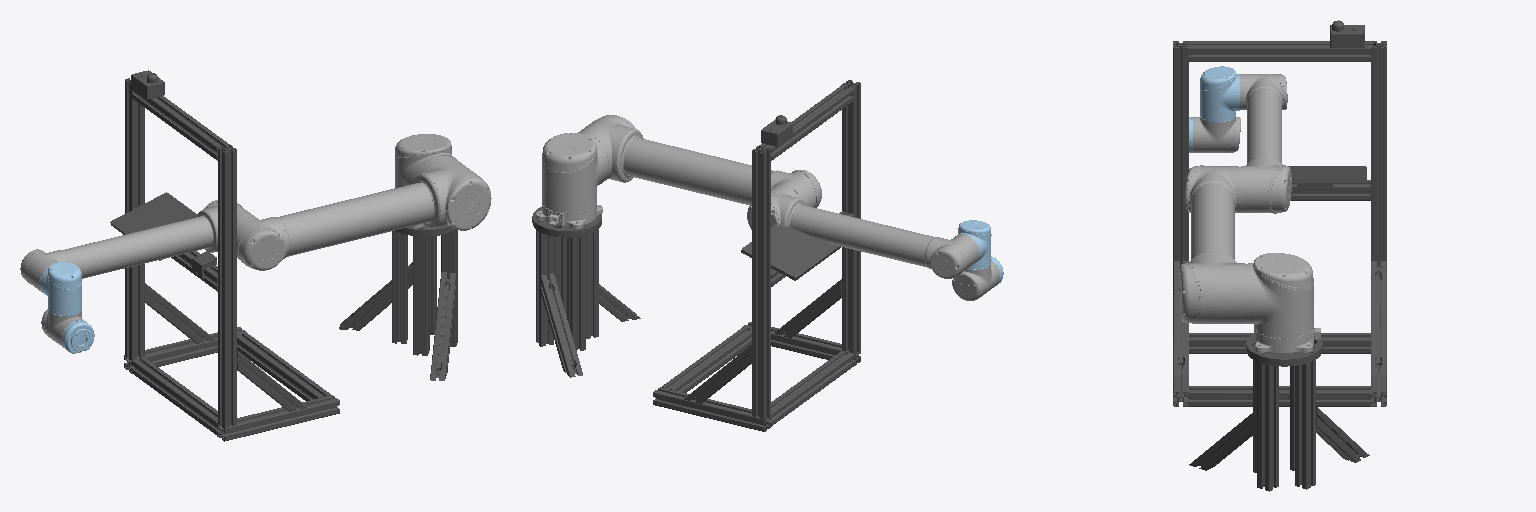
The robot description file, URDF, robot "thing":
<?xml version="1.0" ?>
<!-- =================================================================================== -->
<!-- |    This document was autogenerated by xacro from ridgeback.urdf.xacro           | -->
<!-- |    EDITING THIS FILE BY HAND IS NOT RECOMMENDED                                 | -->
<!-- =================================================================================== -->
<robot name="thing" xmlns:xacro="http://ros.org/wiki/xacro">
  <material name="dark_grey">
    <color rgba="0.2 0.2 0.2 1.0"/>
  </material>
  <material name="light_grey">
    <color rgba="0.4 0.4 0.4 1.0"/>
  </material>
  <material name="red">
    <color rgba="0.8 0.0 0.0 1.0"/>
  </material>
  <material name="white">
    <color rgba="0.9 0.9 0.9 1.0"/>
  </material>
  <material name="yellow">
    <color rgba="0.8 0.8 0.0 1.0"/>
  </material>
  <material name="black">
    <color rgba="0.15 0.15 0.15 1.0"/>
  </material>
  <link name="front_rocker_link">
    <visual>
      <origin rpy="1.57079632679 0 1.57079632679" xyz="0 0 0"/>
      <geometry>
        <mesh filename="assets/ridgeback_description/meshes/rocker.stl"/>
      </geometry>
      <material name="black"/>
    </visual>
    <inertial>
      <origin rpy="1.57079632679 0 1.57079632679" xyz="0 0 0"/>
      <mass value="10.267"/>
      <inertia ixx="0.0288" ixy="2.20484e-6" ixz="-1.3145e-5" iyy="0.4324" iyz="1.8944e-3" izz="0.4130"/>
    </inertial>
  </link>
  <joint name="front_rocker" type="revolute">
    <parent link="axle_link"/>
    <child link="front_rocker_link"/>
    <origin rpy="0 0 0" xyz="0.319 0 0"/>
    <axis xyz="1 0 0"/>
    <limit effort="0" lower="-0.08726" upper="0.08726" velocity="0"/>
  </joint>
  <link name="front_left_wheel_link">
    <visual>
      <origin rpy="1.57079632679 0 0" xyz="0 0 0"/>
      <geometry>
        <mesh filename="assets/ridgeback_description/meshes/wheel.stl"/>
      </geometry>
      <material name="black"/>
    </visual>
    <collision>
      <origin rpy="1.57079632679 0 0" xyz="0 0 0"/>
      <geometry>
        <cylinder length="0.079" radius="0.0759"/>
      </geometry>
    </collision>
    <inertial>
      <origin rpy="0 0 0" xyz="0 0 0"/>
      <mass value="2.3"/>
      <inertia ixx="3.3212e-3" ixy="0" ixz="0" iyy="6.6424e-3" iyz="0" izz="3.3212e-3"/>
    </inertial>
  </link>
  <joint name="front_left_wheel" type="continuous">
    <parent link="front_rocker_link"/>
    <child link="front_left_wheel_link"/>
    <origin rpy="0 0 0" xyz="0 0.2755 0"/>
    <axis xyz="0 1 0"/>
  </joint>
  <transmission name="front_wheel_trans">
    <type>transmission_interface/SimpleTransmission</type>
    <joint name="front_left_wheel">
      <hardwareInterface>hardware_interface/VelocityJointInterface</hardwareInterface>
    </joint>
    <actuator name="front_left_actuator">
      <mechanicalReduction>1</mechanicalReduction>
    </actuator>
  </transmission>
  <link name="front_right_wheel_link">
    <visual>
      <origin rpy="1.57079632679 0 0" xyz="0 0 0"/>
      <geometry>
        <mesh filename="assets/ridgeback_description/meshes/wheel.stl"/>
      </geometry>
      <material name="black"/>
    </visual>
    <collision>
      <origin rpy="1.57079632679 0 0" xyz="0 0 0"/>
      <geometry>
        <cylinder length="0.079" radius="0.0759"/>
      </geometry>
    </collision>
    <inertial>
      <origin rpy="0 0 0" xyz="0 0 0"/>
      <mass value="2.3"/>
      <inertia ixx="3.3212e-3" ixy="0" ixz="0" iyy="6.6424e-3" iyz="0" izz="3.3212e-3"/>
    </inertial>
  </link>
  <joint name="front_right_wheel" type="continuous">
    <parent link="front_rocker_link"/>
    <child link="front_right_wheel_link"/>
    <origin rpy="0 0 0" xyz="0 -0.2755 0"/>
    <axis xyz="0 1 0"/>
  </joint>
  <transmission name="front_wheel_trans">
    <type>transmission_interface/SimpleTransmission</type>
    <joint name="front_right_wheel">
      <hardwareInterface>hardware_interface/VelocityJointInterface</hardwareInterface>
    </joint>
    <actuator name="front_right_actuator">
      <mechanicalReduction>1</mechanicalReduction>
    </actuator>
  </transmission>
  <link name="rear_rocker_link">
    <visual>
      <origin rpy="1.57079632679 0 1.57079632679" xyz="0 0 0"/>
      <geometry>
        <mesh filename="assets/ridgeback_description/meshes/rocker.stl"/>
      </geometry>
      <material name="black"/>
    </visual>
    <inertial>
      <origin rpy="1.57079632679 0 1.57079632679" xyz="0 0 0"/>
      <mass value="10.267"/>
      <inertia ixx="0.0288" ixy="2.20484e-6" ixz="-1.3145e-5" iyy="0.4324" iyz="1.8944e-3" izz="0.4130"/>
    </inertial>
  </link>
  <joint name="rear_rocker" type="fixed">
    <parent link="axle_link"/>
    <child link="rear_rocker_link"/>
    <origin rpy="0 0 0" xyz="-0.319 0 0"/>
    <axis xyz="1 0 0"/>
    <limit effort="0" velocity="0"/>
  </joint>
  <link name="rear_left_wheel_link">
    <visual>
      <origin rpy="1.57079632679 0 0" xyz="0 0 0"/>
      <geometry>
        <mesh filename="assets/ridgeback_description/meshes/wheel.stl"/>
      </geometry>
      <material name="black"/>
    </visual>
    <collision>
      <origin rpy="1.57079632679 0 0" xyz="0 0 0"/>
      <geometry>
        <cylinder length="0.079" radius="0.0759"/>
      </geometry>
    </collision>
    <inertial>
      <origin rpy="0 0 0" xyz="0 0 0"/>
      <mass value="2.3"/>
      <inertia ixx="3.3212e-3" ixy="0" ixz="0" iyy="6.6424e-3" iyz="0" izz="3.3212e-3"/>
    </inertial>
  </link>
  <joint name="rear_left_wheel" type="continuous">
    <parent link="rear_rocker_link"/>
    <child link="rear_left_wheel_link"/>
    <origin rpy="0 0 0" xyz="0 0.2755 0"/>
    <axis xyz="0 1 0"/>
  </joint>
  <transmission name="rear_wheel_trans">
    <type>transmission_interface/SimpleTransmission</type>
    <joint name="rear_left_wheel">
      <hardwareInterface>hardware_interface/VelocityJointInterface</hardwareInterface>
    </joint>
    <actuator name="rear_left_actuator">
      <mechanicalReduction>1</mechanicalReduction>
    </actuator>
  </transmission>
  <link name="rear_right_wheel_link">
    <visual>
      <origin rpy="1.57079632679 0 0" xyz="0 0 0"/>
      <geometry>
        <mesh filename="assets/ridgeback_description/meshes/wheel.stl"/>
      </geometry>
      <material name="black"/>
    </visual>
    <collision>
      <origin rpy="1.57079632679 0 0" xyz="0 0 0"/>
      <geometry>
        <cylinder length="0.079" radius="0.0759"/>
      </geometry>
    </collision>
    <inertial>
      <origin rpy="0 0 0" xyz="0 0 0"/>
      <mass value="2.3"/>
      <inertia ixx="3.3212e-3" ixy="0" ixz="0" iyy="6.6424e-3" iyz="0" izz="3.3212e-3"/>
    </inertial>
  </link>
  <joint name="rear_right_wheel" type="continuous">
    <parent link="rear_rocker_link"/>
    <child link="rear_right_wheel_link"/>
    <origin rpy="0 0 0" xyz="0 -0.2755 0"/>
    <axis xyz="0 1 0"/>
  </joint>
  <transmission name="rear_wheel_trans">
    <type>transmission_interface/SimpleTransmission</type>
    <joint name="rear_right_wheel">
      <hardwareInterface>hardware_interface/VelocityJointInterface</hardwareInterface>
    </joint>
    <actuator name="rear_right_actuator">
      <mechanicalReduction>1</mechanicalReduction>
    </actuator>
  </transmission>
  <link name="base_link"/>
  <joint name="base_link_joint" type="fixed">
    <origin rpy="0 0 0" xyz="0 0 0"/>
    <parent link="base_link"/>
    <child link="chassis_link"/>
  </joint>
  <link name="chassis_link">
    <visual>
      <origin rpy="0 0 0" xyz="0 0 0"/>
      <geometry>
        <mesh filename="assets/ridgeback_description/meshes/body.stl"/>
      </geometry>
      <material name="black"/>
    </visual>
    <collision>
      <origin xyz="0 0 0"/>
      <geometry>
        <mesh filename="assets/ridgeback_description/meshes/body-collision.stl"/>
      </geometry>
    </collision>
    <inertial>
      <origin rpy="1.57079632679 0 1.57079632679" xyz="0.012 0.002 0.067"/>
      <mass value="165.304"/>
      <inertia ixx="4.4744" ixy="0.03098" ixz="0.003647" iyy="7.1624" iyz="0.1228" izz="4.6155"/>
    </inertial>
  </link>
  <joint name="right_side_cover_link_joint" type="fixed">
    <origin rpy="0 0 0" xyz="0 0 0"/>
    <parent link="chassis_link"/>
    <child link="right_side_cover_link"/>
  </joint>
  <joint name="left_side_cover_link_joint" type="fixed">
    <origin rpy="0 0 0" xyz="0 0 0"/>
    <parent link="chassis_link"/>
    <child link="left_side_cover_link"/>
  </joint>
  <link name="left_side_cover_link">
    <visual>
      <origin rpy="0 0 3.14159265359" xyz="0 0 0"/>
      <geometry>
        <mesh filename="assets/ridgeback_description/meshes/side-cover.stl"/>
      </geometry>
      <material name="yellow"/>
    </visual>
  </link>
  <link name="right_side_cover_link">
    <visual>
      <origin rpy="0 0 0" xyz="0 0 0"/>
      <geometry>
        <mesh filename="assets/ridgeback_description/meshes/side-cover.stl"/>
      </geometry>
      <material name="yellow"/>
    </visual>
  </link>
  <joint name="front_cover_link_joint" type="fixed">
    <origin rpy="0 0 0" xyz="0 0 0"/>
    <parent link="chassis_link"/>
    <child link="front_cover_link"/>
  </joint>
  <link name="front_cover_link">
    <visual>
      <origin rpy="0 0 0" xyz="0 0 0"/>
      <geometry>
        <mesh filename="assets/ridgeback_description/meshes/end-cover.stl"/>
      </geometry>
      <material name="black"/>
    </visual>
  </link>
  <joint name="rear_cover_link_joint" type="fixed">
    <origin rpy="0 0 0" xyz="0 0 0"/>
    <parent link="chassis_link"/>
    <child link="rear_cover_link"/>
  </joint>
  <link name="rear_cover_link">
    <visual>
      <origin rpy="0 0 3.14159265359" xyz="0 0 0"/>
      <geometry>
        <mesh filename="assets/ridgeback_description/meshes/end-cover.stl"/>
      </geometry>
      <material name="black"/>
    </visual>
  </link>
  <joint name="front_lights_link_joint" type="fixed">
    <origin rpy="0 0 0" xyz="0 0 0"/>
    <parent link="chassis_link"/>
    <child link="front_lights_link"/>
  </joint>
  <joint name="rear_lights_link_joint" type="fixed">
    <origin rpy="0 0 0" xyz="0 0 0"/>
    <parent link="chassis_link"/>
    <child link="rear_lights_link"/>
  </joint>
  <link name="front_lights_link">
    <visual>
      <origin rpy="0 0 0" xyz="0 0 0"/>
      <geometry>
        <mesh filename="assets/ridgeback_description/meshes/lights.stl"/>
      </geometry>
      <material name="white"/>
    </visual>
  </link>
  <link name="rear_lights_link">
    <visual>
      <origin rpy="0 0 3.14159265359" xyz="0 0 0"/>
      <geometry>
        <mesh filename="assets/ridgeback_description/meshes/lights.stl"/>
      </geometry>
      <material name="red"/>
    </visual>
  </link>
  <joint name="top_link_joint" type="fixed">
    <origin rpy="0 0 0" xyz="0 0 0"/>
    <parent link="chassis_link"/>
    <child link="top_link"/>
  </joint>
  <link name="top_link">
    <visual>
      <origin rpy="0 0 0" xyz="0 0 0"/>
      <geometry>
        <mesh filename="assets/ridgeback_description/meshes/top.stl"/>
      </geometry>
      <material name="black"/>
    </visual>
    <collision>
      <origin rpy="0 0 0" xyz="0 0 0"/>
      <geometry>
        <mesh filename="assets/ridgeback_description/meshes/top.stl"/>
      </geometry>
    </collision>
  </link>
  <joint name="axle_joint" type="fixed">
    <origin rpy="0 0 0" xyz="0 0 0.05"/>
    <parent link="chassis_link"/>
    <child link="axle_link"/>
  </joint>
  <link name="axle_link">
    <visual>
      <origin rpy="0 1.57079632679 0" xyz="0 0 0"/>
      <geometry>
        <mesh filename="assets/ridgeback_description/meshes/axle.stl"/>
      </geometry>
      <material name="black"/>
    </visual>
  </link>
  <link name="imu_link">
    <inertial>
      <mass value="0.001"/>
      <origin rpy="0 0 0" xyz="0 0 0"/>
      <inertia ixx="1e-09" ixy="0.0" ixz="0.0" iyy="1e-09" iyz="0.0" izz="1e-09"/>
    </inertial>
  </link>
  <joint name="imu_joint" type="fixed">
    <parent link="chassis_link"/>
    <child link="imu_link"/>
    <origin rpy="0 0 0" xyz="0.2085 -0.2902 0.1681"/>
  </joint>
  <link name="mid_mount"/>
  <joint name="mid_mount_joint" type="fixed">
    <parent link="base_link"/>
    <child link="mid_mount"/>
    <origin rpy="0 0 0" xyz="0 0 0.28"/>
  </joint>

  <link name="arch_link">
  <visual>
    <origin rpy="1.570795 0 0" xyz="0.0 0.0 0.0"/>
    <geometry>
      <mesh filename="assets/ridgeback_description/meshes/tor11_mech.stl" />
    </geometry>
    <material name="light_grey"/>
  </visual>
  <collision>
    <origin rpy="1.570795 0 0" xyz="0.0 0.0 0.0"/>
    <geometry>
      <mesh filename="assets/ridgeback_description/meshes/tor11_mech.stl" />
    </geometry>
  </collision>
 </link>

<joint name="arch_joint" type="fixed">
  <origin xyz="0 0 0.278" rpy="0 0 1.57" />
  <parent link="top_link" />
  <child link="arch_link" />
</joint>

<!-- Join arm and arch link -->
<joint name="ur10_arm_base" type="fixed">
  <parent link="arch_link" />
  <child link="ur10_base_link" />
  <origin xyz="0.01 -0.27 0.375" rpy="0.0 0.0 1.570796" />
</joint>

<!-- common stuff -->
<material name="blackish">
  <color rgba="0.2 0.2 0.2 1"/>
</material>
<material name="LightGrey">
  <color rgba="0.7 0.7 0.7 1.0"/>
</material>
<material name="LightBlue">
  <color rgba="0.670 0.815 0.921 1.0"/>
</material>

<link name="ur10_base_link">
  <visual>
    <origin xyz="0 0 0" rpy="1.57 0 0"/>
    <geometry>
      <mesh filename="assets/ur_description/meshes/ur10/visual/Base.obj"/>
    </geometry>
    <material name="LightGrey"/>
  </visual>
  <collision>
    <geometry>
      <mesh filename="assets/ur_description/meshes/ur10/collision/base.stl"/>
    </geometry>
  </collision>
  <inertial>
    <mass value="4.0"/>
    <origin rpy="0 0 0" xyz="0.0 0.0 0.0"/>
    <inertia ixx="0.0061063308908" ixy="0.0" ixz="0.0" iyy="0.0061063308908" iyz="0.0" izz="0.01125"/>
  </inertial>
</link>
<joint name="shoulder_pan_joint" type="revolute">
  <parent link="ur10_base_link"/>
  <child link="shoulder_link"/>
  <origin rpy="0.0 0.0 0.0" xyz="0.0 0.0 0.1273"/>
  <axis xyz="0 0 1"/>
  <limit effort="330.0" lower="-6.2831853" upper="6.2831853" velocity="2.16"/>
  <dynamics damping="0.0" friction="0.0"/>
</joint>
<link name="shoulder_link">
  <visual>
    <origin xyz="0 0 0" rpy="1.57 0 0"/>
    <geometry>
      <mesh filename="assets/ur_description/meshes/ur10/visual/Shoulder.obj"/>
    </geometry>
    <material name="LightGrey"/>
  </visual>
  <collision>
    <geometry>
      <mesh filename="assets/ur_description/meshes/ur10/collision/shoulder.stl"/>
    </geometry>
  </collision>
  <inertial>
    <mass value="7.778"/>
    <origin rpy="0 0 0" xyz="0.0 0.0 0.0"/>
    <inertia ixx="0.0314743125769" ixy="0.0" ixz="0.0" iyy="0.0314743125769" iyz="0.0" izz="0.021875625"/>
  </inertial>
</link>
<joint name="shoulder_lift_joint" type="revolute">
  <parent link="shoulder_link"/>
  <child link="upper_arm_link"/>
  <origin rpy="0.0 1.570796325 0.0" xyz="0.0 0.220941 0.0"/>
  <axis xyz="0 1 0"/>
  <limit effort="330.0" lower="-6.2831853" upper="6.2831853" velocity="2.16"/>
  <dynamics damping="0.0" friction="0.0"/>
</joint>
<link name="upper_arm_link">
  <visual>
    <origin xyz="0 0 0" rpy="1.57 0 0"/>
    <geometry>
      <mesh filename="assets/ur_description/meshes/ur10/visual/UpperArm.obj"/>
    </geometry>
    <material name="LightGrey"/>
  </visual>
  <collision>
    <geometry>
      <mesh filename="assets/ur_description/meshes/ur10/collision/upper_arm.stl"/>
    </geometry>
  </collision>
  <inertial>
    <mass value="12.93"/>
    <origin rpy="0 0 0" xyz="0.0 0.0 0.306"/>
    <inertia ixx="0.421753803798" ixy="0.0" ixz="0.0" iyy="0.421753803798" iyz="0.0" izz="0.036365625"/>
  </inertial>
</link>
<joint name="elbow_joint" type="revolute">
  <parent link="upper_arm_link"/>
  <child link="forearm_link"/>
  <origin rpy="0.0 0.0 0.0" xyz="0.0 -0.1719 0.612"/>
  <axis xyz="0 1 0"/>
  <limit effort="150.0" lower="-6.2831853" upper="6.2831853" velocity="3.15"/>
  <dynamics damping="0.0" friction="0.0"/>
</joint>
<link name="forearm_link">
  <visual>
    <origin xyz="0 0 0" rpy="1.57 0 0"/>
    <geometry>
      <mesh filename="assets/ur_description/meshes/ur10/visual/Forearm.obj"/>
    </geometry>
    <material name="LightGrey"/>
  </visual>
  <collision>
    <geometry>
      <mesh filename="assets/ur_description/meshes/ur10/collision/forearm.stl"/>
    </geometry>
  </collision>
  <inertial>
    <mass value="3.87"/>
    <origin rpy="0 0 0" xyz="0.0 0.0 0.28615"/>
    <inertia ixx="0.111069694097" ixy="0.0" ixz="0.0" iyy="0.111069694097" iyz="0.0" izz="0.010884375"/>
  </inertial>
</link>
<joint name="wrist_1_joint" type="revolute">
  <parent link="forearm_link"/>
  <child link="wrist_1_link"/>
  <origin rpy="0.0 1.570796325 0.0" xyz="0.0 0.0 0.5723"/>
  <axis xyz="0 1 0"/>
  <limit effort="54.0" lower="-6.2831853" upper="6.2831853" velocity="3.2"/>
  <dynamics damping="0.0" friction="0.0"/>
</joint>
<link name="wrist_1_link">
  <visual>
    <origin xyz="0 0 0" rpy="1.57 0 0"/>
    <geometry>
      <mesh filename="assets/ur_description/meshes/ur10/visual/Wrist1.obj"/>
    </geometry>
    <material name="LightBlue"/>
  </visual>
  <collision>
    <geometry>
      <mesh filename="assets/ur_description/meshes/ur10/collision/wrist_1.stl"/>
    </geometry>
  </collision>
  <inertial>
    <mass value="1.96"/>
    <origin rpy="0 0 0" xyz="0.0 0.0 0.0"/>
    <inertia ixx="0.0051082479567" ixy="0.0" ixz="0.0" iyy="0.0051082479567" iyz="0.0" izz="0.0055125"/>
  </inertial>
</link>
<joint name="wrist_2_joint" type="revolute">
  <parent link="wrist_1_link"/>
  <child link="wrist_2_link"/>
  <origin rpy="0.0 0.0 0.0" xyz="0.0 0.1149 0.0"/>
  <axis xyz="0 0 1"/>
  <limit effort="54.0" lower="-6.2831853" upper="6.2831853" velocity="3.2"/>
  <dynamics damping="0.0" friction="0.0"/>
</joint>
<link name="wrist_2_link">
  <visual>
    <origin xyz="0 0 0" rpy="1.57 0 0"/>
    <geometry>
      <mesh filename="assets/ur_description/meshes/ur10/visual/Wrist2.obj"/>
    </geometry>
    <material name="LightGrey"/>
  </visual>
  <collision>
    <geometry>
      <mesh filename="assets/ur_description/meshes/ur10/collision/wrist_2.stl"/>
    </geometry>
  </collision>
  <inertial>
    <mass value="1.96"/>
    <origin rpy="0 0 0" xyz="0.0 0.0 0.0"/>
    <inertia ixx="0.0051082479567" ixy="0.0" ixz="0.0" iyy="0.0051082479567" iyz="0.0" izz="0.0055125"/>
  </inertial>
</link>
<joint name="wrist_3_joint" type="revolute">
  <parent link="wrist_2_link"/>
  <child link="wrist_3_link"/>
  <origin rpy="0.0 0.0 0.0" xyz="0.0 0.0 0.1157"/>
  <axis xyz="0 1 0"/>
  <limit effort="54.0" lower="-6.2831853" upper="6.2831853" velocity="3.2"/>
  <dynamics damping="0.0" friction="0.0"/>
</joint>
<link name="wrist_3_link">
  <visual>
    <origin xyz="0 0 0" rpy="1.57 0 0"/>
    <geometry>
      <mesh filename="assets/ur_description/meshes/ur10/visual/Wrist3.obj"/>
    </geometry>
    <material name="LightBlue"/>
  </visual>
  <collision>
    <geometry>
      <mesh filename="assets/ur_description/meshes/ur10/collision/wrist_3.stl"/>
    </geometry>
  </collision>
  <inertial>
    <mass value="0.202"/>
    <origin rpy="0 0 0" xyz="0.0 0.0 0.0"/>
    <inertia ixx="0.000526462289415" ixy="0.0" ixz="0.0" iyy="0.000526462289415" iyz="0.0" izz="0.000568125"/>
  </inertial>
</link>
<joint name="ee_fixed_joint" type="fixed">
  <parent link="wrist_3_link"/>
  <child link="ee_link"/>
  <origin rpy="0.0 0.0 1.570796325" xyz="0.0 0.0922 0.0"/>
</joint>
<link name="ee_link">
  <collision>
    <geometry>
      <box size="0.01 0.01 0.01"/>
    </geometry>
    <origin rpy="0 0 0" xyz="-0.01 0 0"/>
  </collision>
</link>

<!-- <transmission name="shoulder_pan_trans">
  <type>transmission_interface/SimpleTransmission</type>
  <joint name="shoulder_pan_joint">
    <hardwareInterface>PositionJointInterface</hardwareInterface>
  </joint>
  <actuator name="shoulder_pan_motor">
    <mechanicalReduction>1</mechanicalReduction>
  </actuator>
</transmission>
<transmission name="shoulder_lift_trans">
  <type>transmission_interface/SimpleTransmission</type>
  <joint name="shoulder_lift_joint">
    <hardwareInterface>PositionJointInterface</hardwareInterface>
  </joint>
  <actuator name="shoulder_lift_motor">
    <mechanicalReduction>1</mechanicalReduction>
  </actuator>
</transmission>
<transmission name="elbow_trans">
  <type>transmission_interface/SimpleTransmission</type>
  <joint name="elbow_joint">
    <hardwareInterface>PositionJointInterface</hardwareInterface>
  </joint>
  <actuator name="elbow_motor">
    <mechanicalReduction>1</mechanicalReduction>
  </actuator>
</transmission>
<transmission name="wrist_1_trans">
  <type>transmission_interface/SimpleTransmission</type>
  <joint name="wrist_1_joint">
    <hardwareInterface>PositionJointInterface</hardwareInterface>
  </joint>
  <actuator name="wrist_1_motor">
    <mechanicalReduction>1</mechanicalReduction>
  </actuator>
</transmission>
<transmission name="wrist_2_trans">
  <type>transmission_interface/SimpleTransmission</type>
  <joint name="wrist_2_joint">
    <hardwareInterface>PositionJointInterface</hardwareInterface>
  </joint>
  <actuator name="wrist_2_motor">
    <mechanicalReduction>1</mechanicalReduction>
  </actuator>
</transmission>
<transmission name="wrist_3_trans">
  <type>transmission_interface/SimpleTransmission</type>
  <joint name="wrist_3_joint">
    <hardwareInterface>PositionJointInterface</hardwareInterface>
  </joint>
  <actuator name="wrist_3_motor">
    <mechanicalReduction>1</mechanicalReduction>
  </actuator>
</transmission> -->

</robot>

--- Facts derived from the render (not from the file) ---
3 views of the same robot in one strip: view 1: azimuth 30°, elevation 25°; view 2: azimuth 150°, elevation 25°; view 3: azimuth 270°, elevation 25° (orthographic).
Model thing with 27 links and 26 joints (7 revolute, 4 continuous, 15 fixed), rooted at base_link, posed every joint at zero.
Visible links, largest first — view 1: arch_link, upper_arm_link, forearm_link, shoulder_link, wrist_1_link, wrist_3_link, wrist_2_link; view 2: arch_link, upper_arm_link, forearm_link, shoulder_link, wrist_2_link, wrist_1_link, ur10_base_link; view 3: arch_link, upper_arm_link, forearm_link, shoulder_link, wrist_1_link, wrist_2_link, ur10_base_link.
Boxes of the visible links, x1=… form: arch_link: x1=110, y1=70, x2=457, y2=441; upper_arm_link: x1=237, y1=156, x2=491, y2=270; forearm_link: x1=20, y1=200, x2=253, y2=292; shoulder_link: x1=395, y1=134, x2=456, y2=187; wrist_1_link: x1=40, y1=262, x2=81, y2=315; wrist_3_link: x1=62, y1=320, x2=94, y2=353; wrist_2_link: x1=41, y1=309, x2=85, y2=347; arch_link: x1=532, y1=80, x2=860, y2=431; upper_arm_link: x1=578, y1=115, x2=821, y2=207; forearm_link: x1=747, y1=185, x2=979, y2=278; shoulder_link: x1=542, y1=133, x2=608, y2=213; wrist_2_link: x1=952, y1=260, x2=999, y2=300; wrist_1_link: x1=958, y1=220, x2=991, y2=269; ur10_base_link: x1=536, y1=204, x2=602, y2=228; arch_link: x1=1173, y1=20, x2=1386, y2=491; upper_arm_link: x1=1178, y1=165, x2=1248, y2=323; forearm_link: x1=1237, y1=74, x2=1291, y2=213; shoulder_link: x1=1249, y1=253, x2=1313, y2=338; wrist_1_link: x1=1200, y1=66, x2=1239, y2=122; wrist_2_link: x1=1193, y1=116, x2=1240, y2=152; ur10_base_link: x1=1254, y1=328, x2=1320, y2=352.
Bounding box of the posed robot: 1.33 × 0.5303 × 0.9 m (x, y, z).
Meshes: 16 distinct files referenced, 8 mesh visuals loaded (1 binary STL, 7 OBJ); not drawn: 15 (reference not matched to a file when rendering).